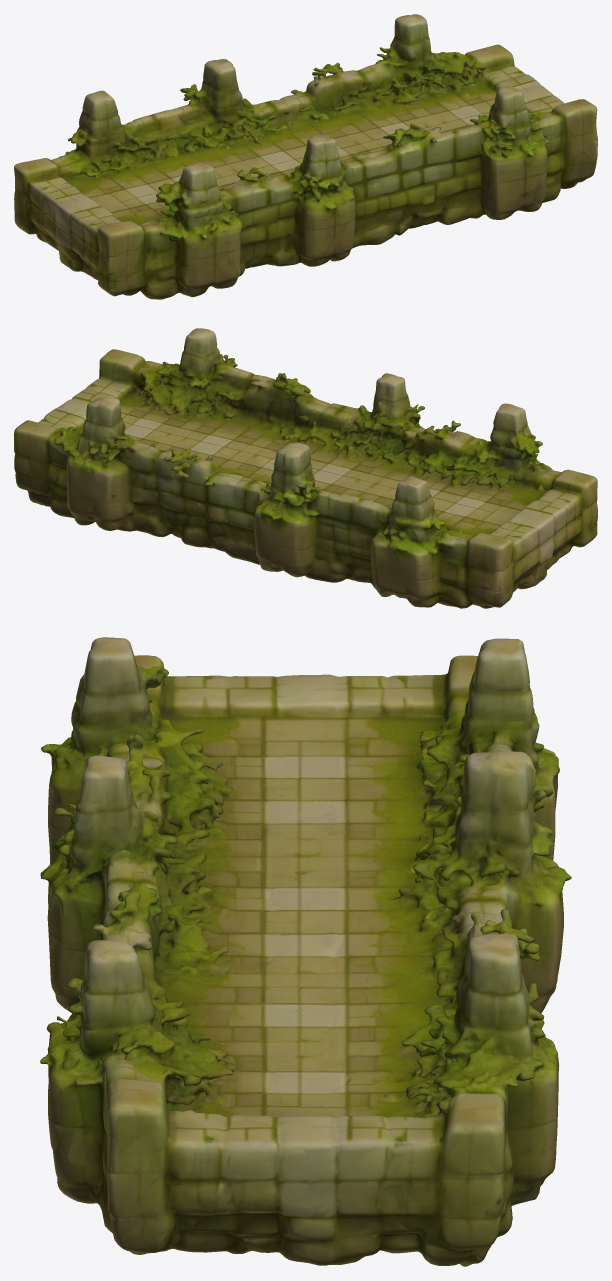
The model's file is bridge_sector_01.glb.
The picture shows the model from 3 angles, top to bottom: view 1: azimuth 30°, elevation 25°; view 2: azimuth 150°, elevation 25°; view 3: azimuth 270°, elevation 25°; orthographic projection. The views are drawn at different scales.
Visible parts, largest first — view 1: Mesh_0.001; view 2: Mesh_0.001; view 3: Mesh_0.001.
Part boxes in pixels (bbox=[...]): Mesh_0.001: bbox=[14, 14, 597, 299]; Mesh_0.001: bbox=[14, 328, 597, 608]; Mesh_0.001: bbox=[40, 637, 571, 1266].
Bounding box in the file's own units: 19.78 × 5 × 9.3.
Materials: 1 (1 with a texture image).
